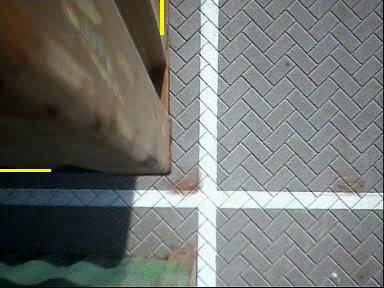groundmarker_2: (199, 170, 232, 222)
